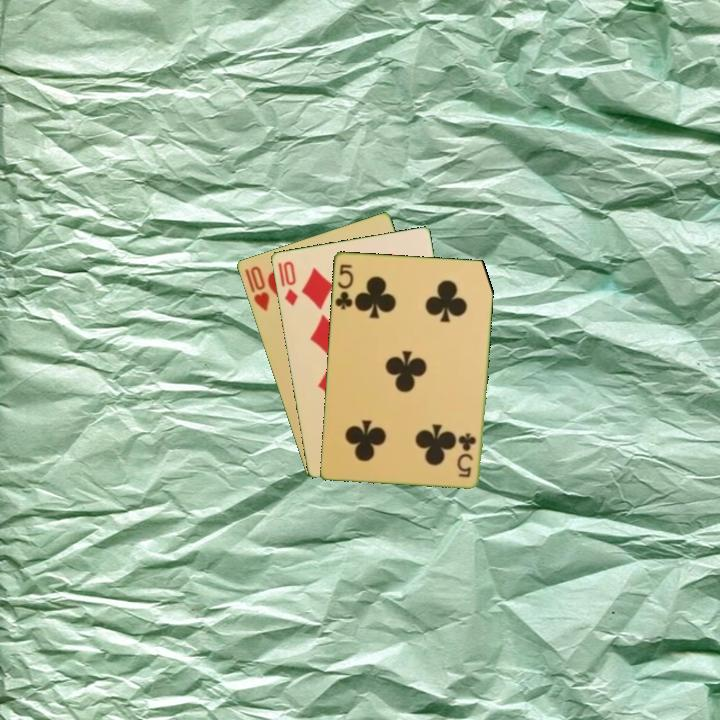10d: (279, 257, 301, 308)
10h: (241, 262, 272, 314)
5c: (331, 260, 356, 312), (455, 429, 479, 480)
